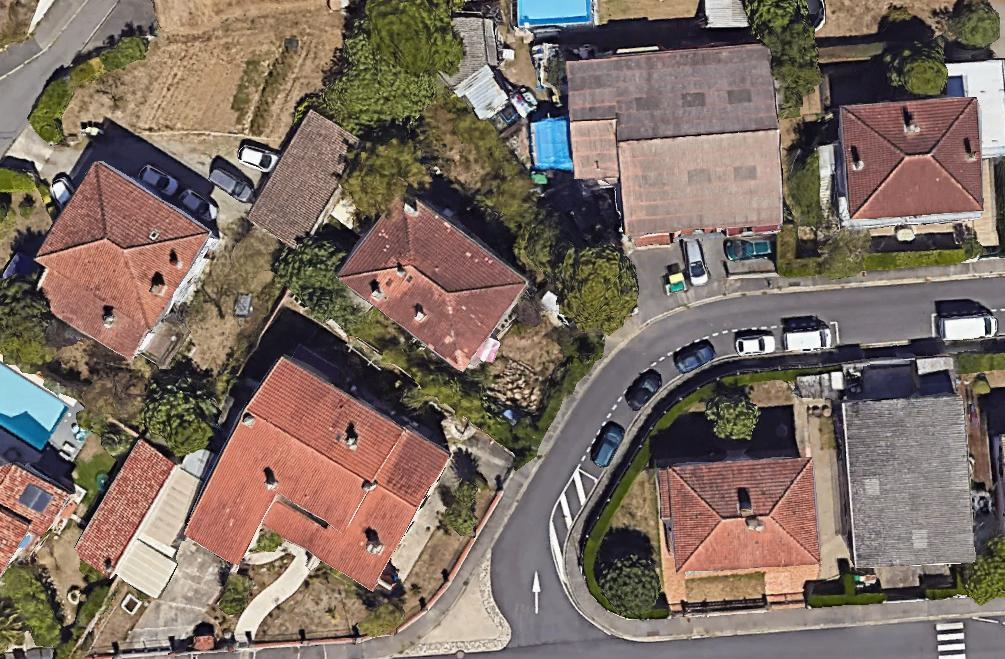maison: (176, 353, 453, 631), (562, 39, 790, 251), (13, 156, 222, 367), (332, 183, 531, 372), (837, 394, 975, 569), (835, 98, 984, 224), (241, 108, 369, 254), (658, 458, 818, 573), (70, 437, 176, 578), (0, 464, 78, 574)
